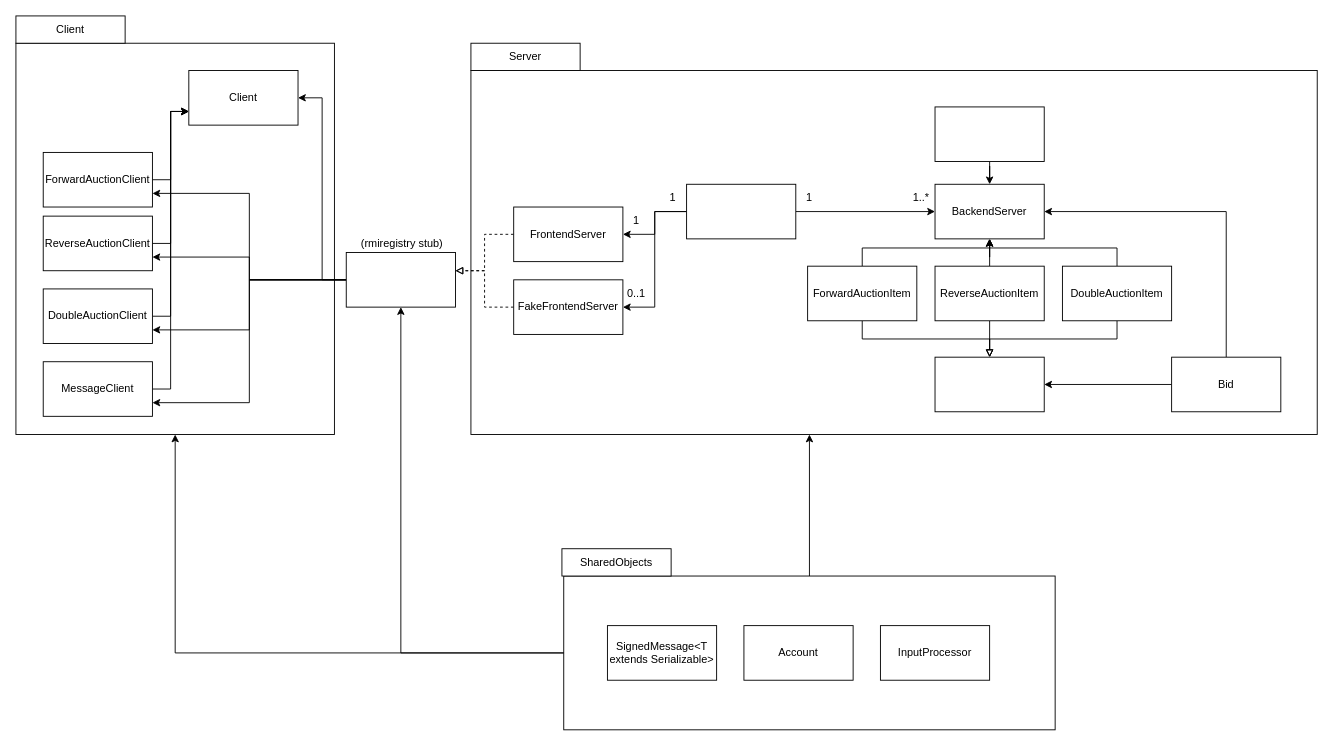
Image size: 1333x746. Some labels were removed from this diagram. Each missing label, with the centre of its shape:
"<<Interface>> IRemoteAuction" belongs at [400,279].
"AuctionItem" belongs at [989,384].
"JChannel" belongs at [741,211].
"ServerState" belongs at [989,134].
